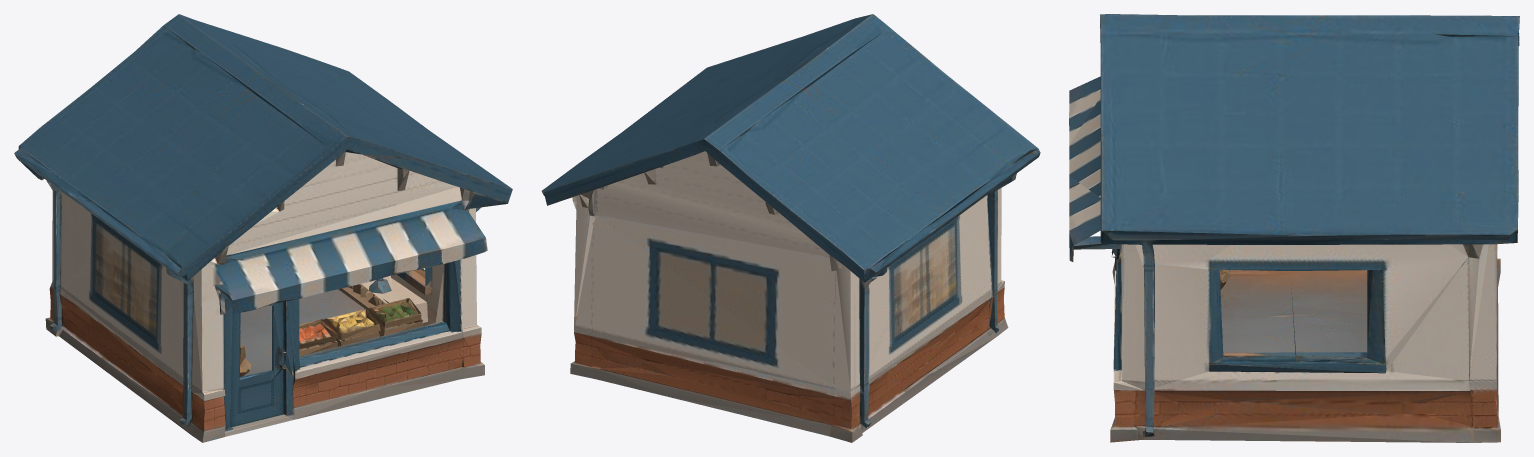
Rendered from angular-common-buildings-corner-retail-shell-compact-normal.glb.
The picture shows the model from 3 angles, left to right: view 1: azimuth 30°, elevation 25°; view 2: azimuth 150°, elevation 25°; view 3: azimuth 270°, elevation 25°; orthographic projection. The views are drawn at different scales.
Parts seen in each view (by area): view 1: Mesh_0; view 2: Mesh_0; view 3: Mesh_0.
Boxes of the visible parts, x1,y1,x2,y2 form: Mesh_0: (14, 14, 512, 442); Mesh_0: (541, 14, 1040, 442); Mesh_0: (1069, 14, 1519, 442).
Size of the model in its own units: 3.2 by 2.52 by 3.
Materials: 1 (1 with a texture image).
